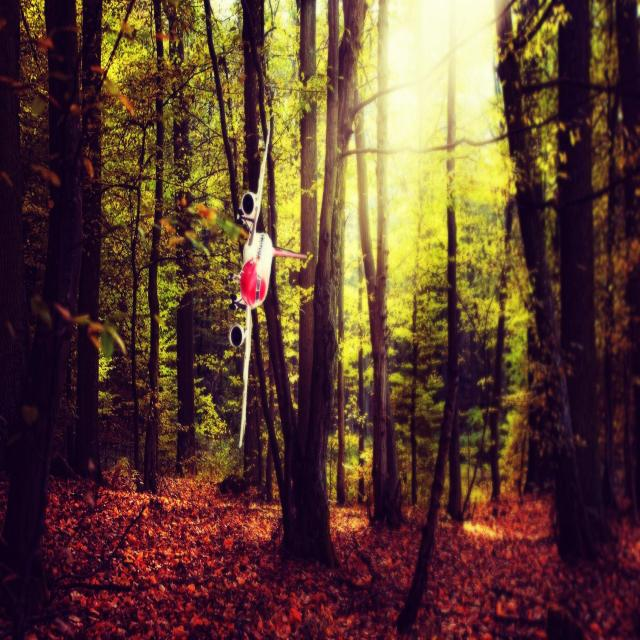airplane: (228, 118, 308, 450)
